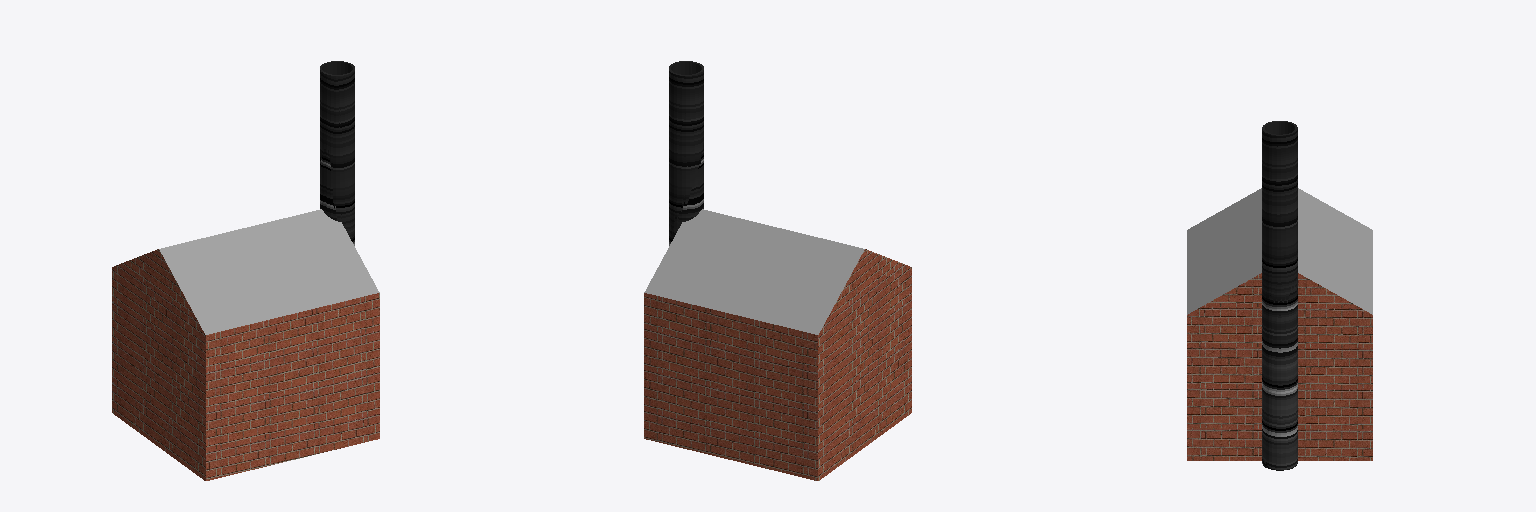
3 renders of one model, left to right at view 1: azimuth 30°, elevation 25°; view 2: azimuth 150°, elevation 25°; view 3: azimuth 270°, elevation 25°, orthographic.
Visible parts, largest first — view 1: Cube; view 2: Cube; view 3: Cube.
Boxes of the visible parts, x1,y1,x2,y2 form: Cube: [112, 61, 379, 480]; Cube: [644, 61, 911, 480]; Cube: [1187, 121, 1372, 470].
Bounding box in the file's own units: 5.02 × 8.28 × 4.17.
4 materials, 2 textured.